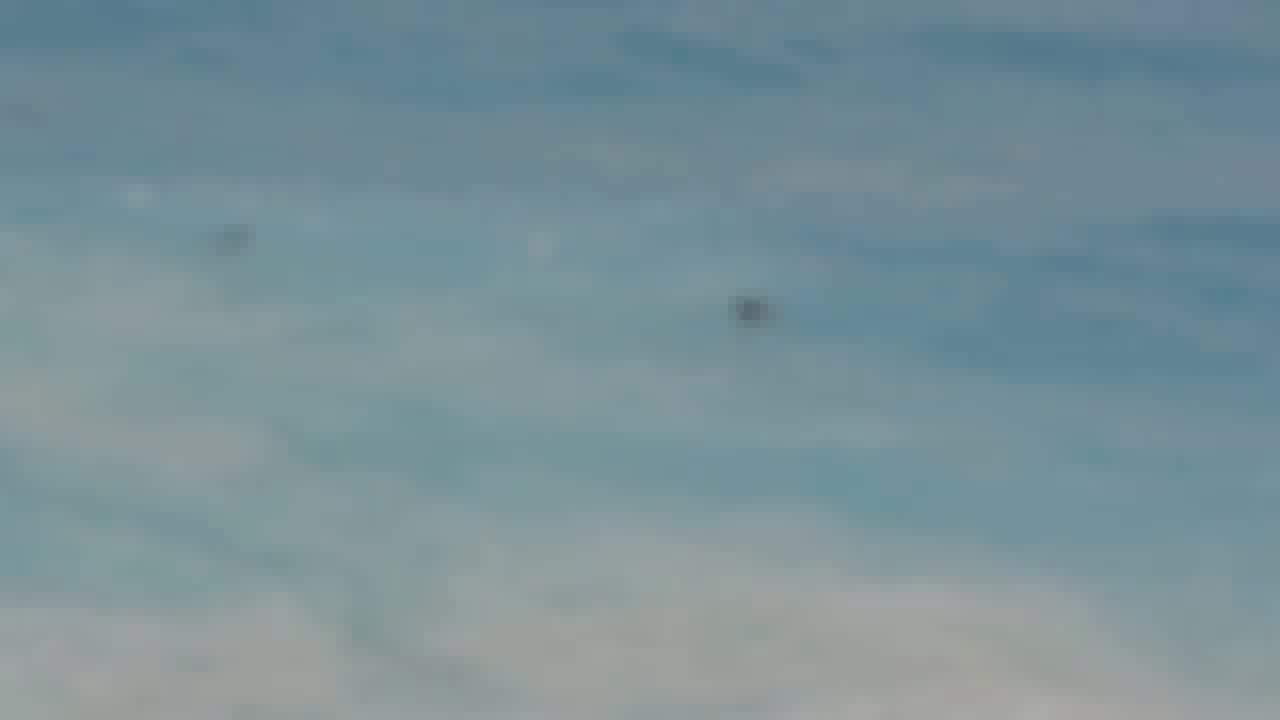swimmer: (722, 286, 781, 335)
